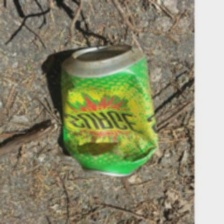can: (52, 40, 162, 179)
